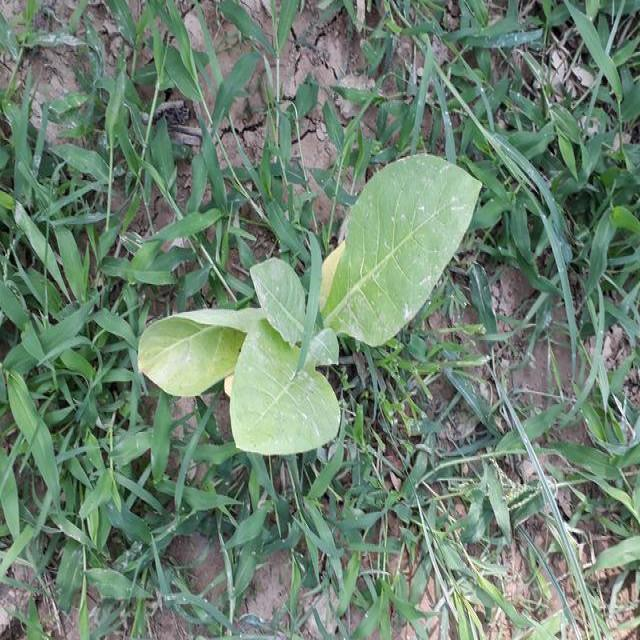crop: (132, 146, 488, 458)
